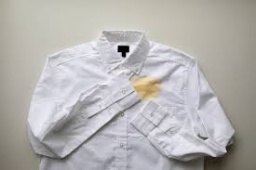coffee: (136, 78, 157, 96)
